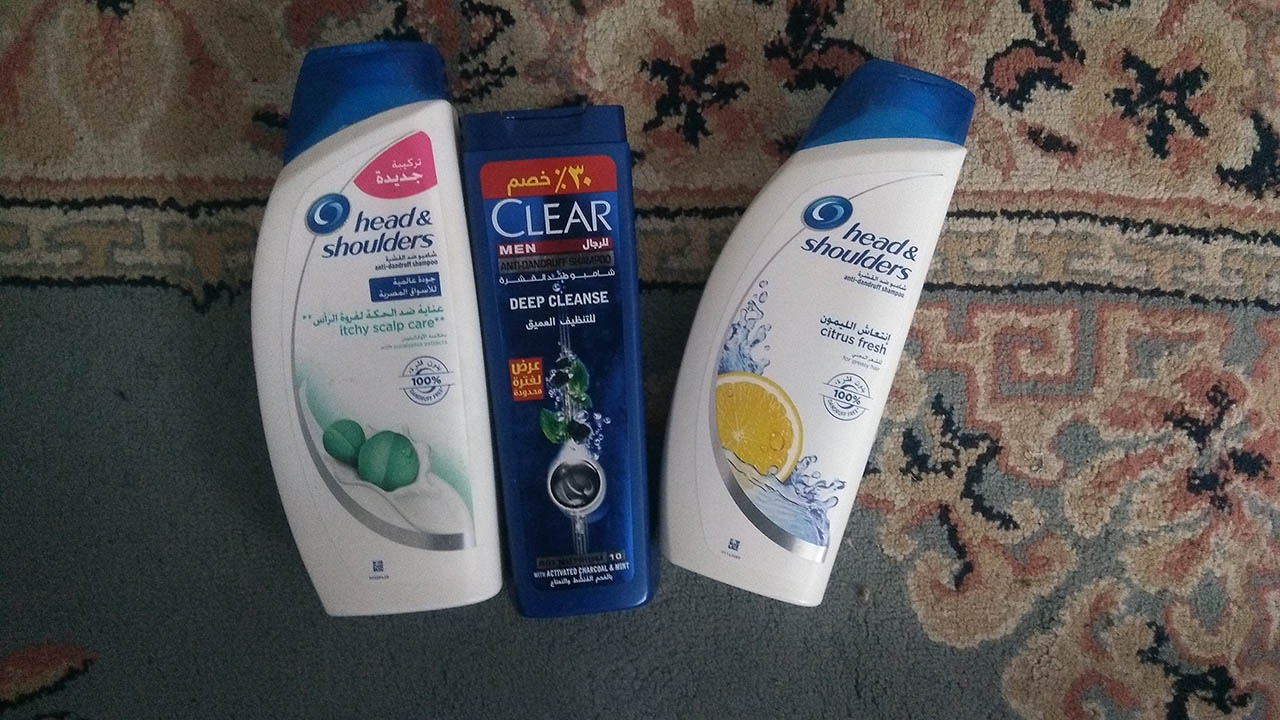Shampoo-Clear 4.7$: (505, 95, 640, 628)
shampoo-Lemon 3.5$: (657, 62, 994, 600)
shampoo-green 4.5$: (247, 34, 463, 648)
